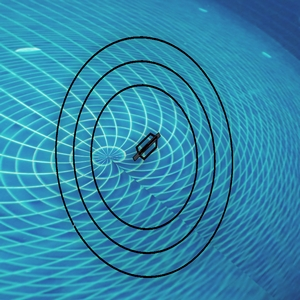circle: (52, 27, 264, 287)
submarine: (131, 138, 157, 159)
